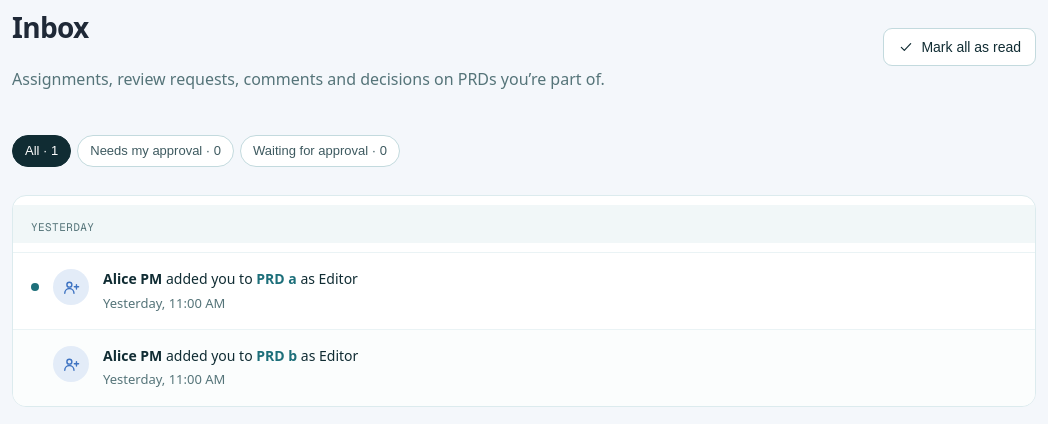
it: InboxPage › explains empty approval tabs
The width and height of the screenshot is (1048, 424).
Click the button "Needs my approval · 0" at [156, 150], box [77,134,234,166]
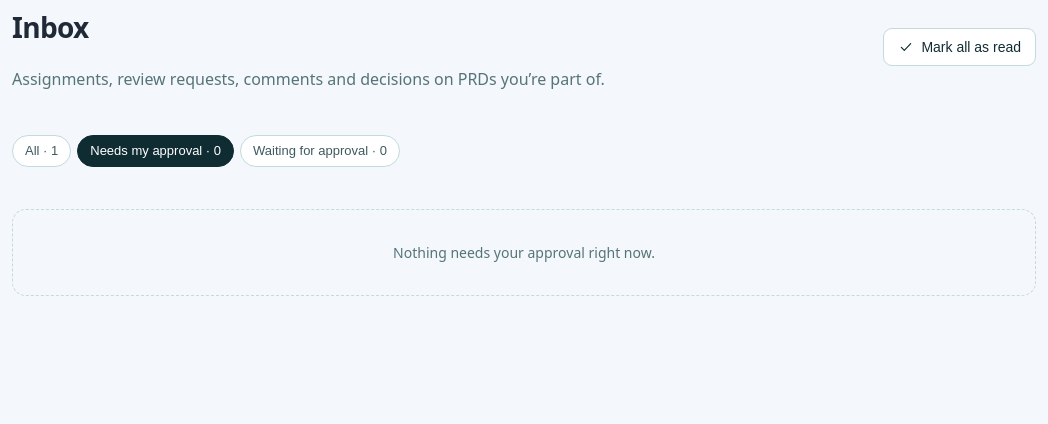
Check: the text "Nothing needs your approval right now." is shown, box [12,208,1036,296]
Click the button "Waiting for approval · 0" at [320, 150], box [240,134,400,166]
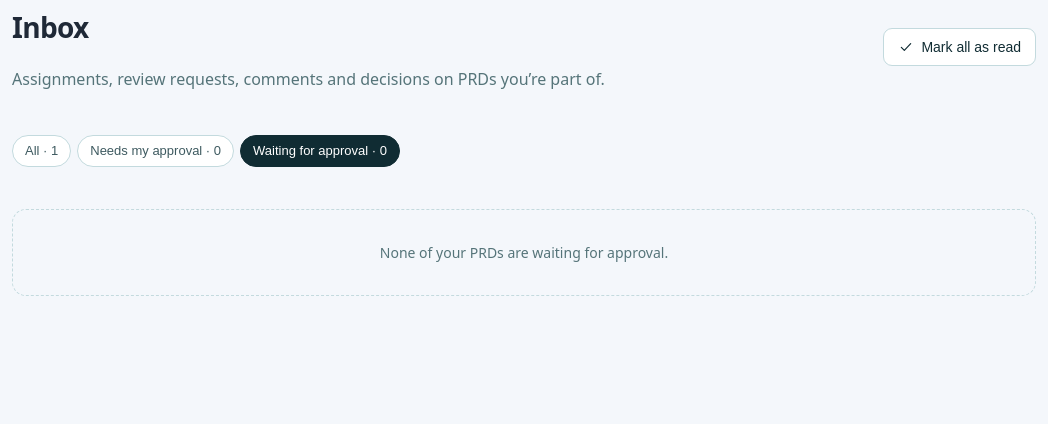
Check: the text "None of your PRDs are waiting for approval." is shown, box [12,208,1036,296]
